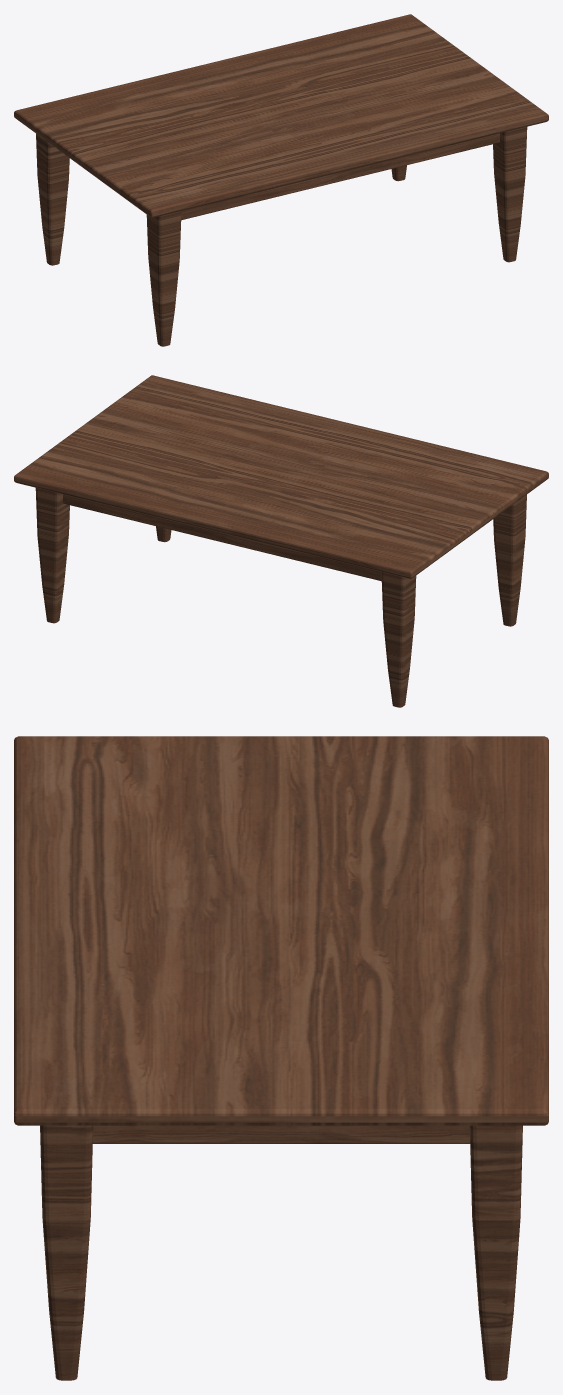
Rendered from Table.fbx.
3 views of the same model, one above another, from view 1: azimuth 30°, elevation 25°; view 2: azimuth 150°, elevation 25°; view 3: azimuth 270°, elevation 25° (orthographic). The views are drawn at different scales.
Parts seen in each view (by area): view 1: Cube; view 2: Cube; view 3: Cube.
Part boxes in pixels (left/top/right/bottom): Cube: left=14, top=14, right=548, bottom=346; Cube: left=14, top=375, right=548, bottom=707; Cube: left=14, top=736, right=548, bottom=1380.
Bounding box in the file's own units: 7739 × 2773 × 4643.
1 material, 1 textured.
